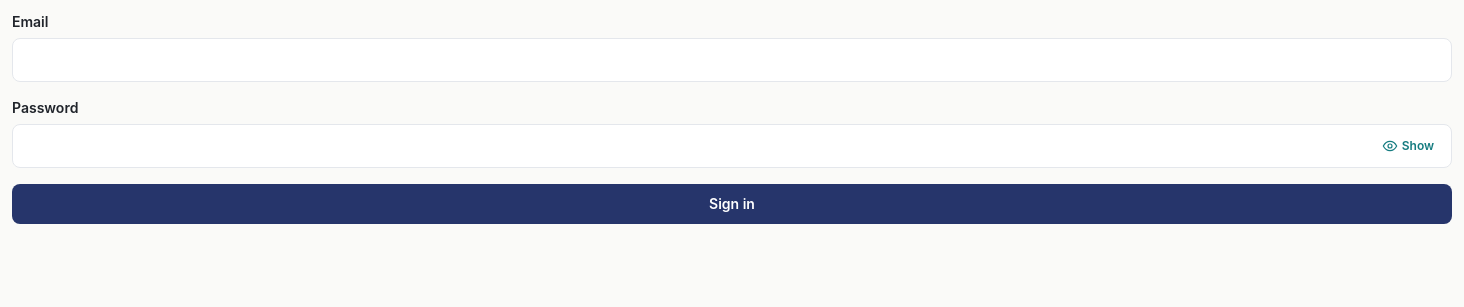
exclusive customer and workforce UI sign-in flows › does not navigate when the post-login session cannot be verified
Type "person@example.test" into the field labelled "Email" at {"x": 732, "y": 60}, box x1=12 y1=38 x2=1452 y2=82
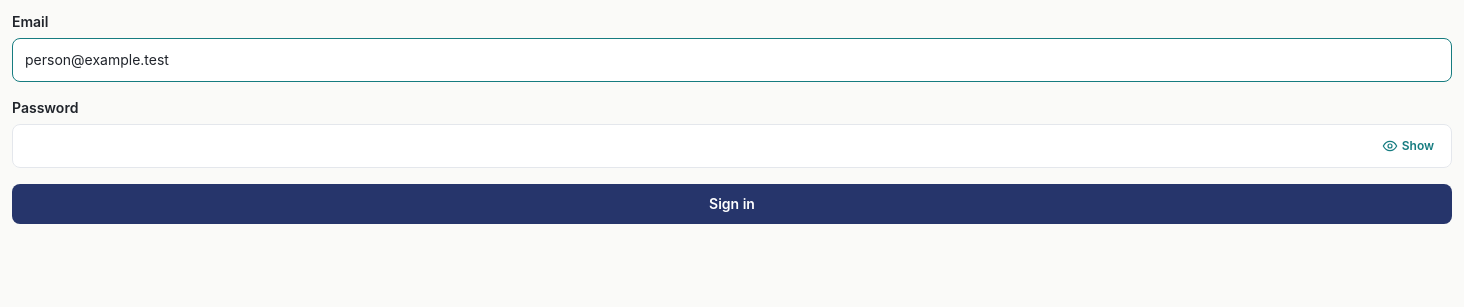
Type "LongEnoughPassword!9" into the password field labelled "Password" at {"x": 732, "y": 146}, box x1=12 y1=124 x2=1452 y2=168
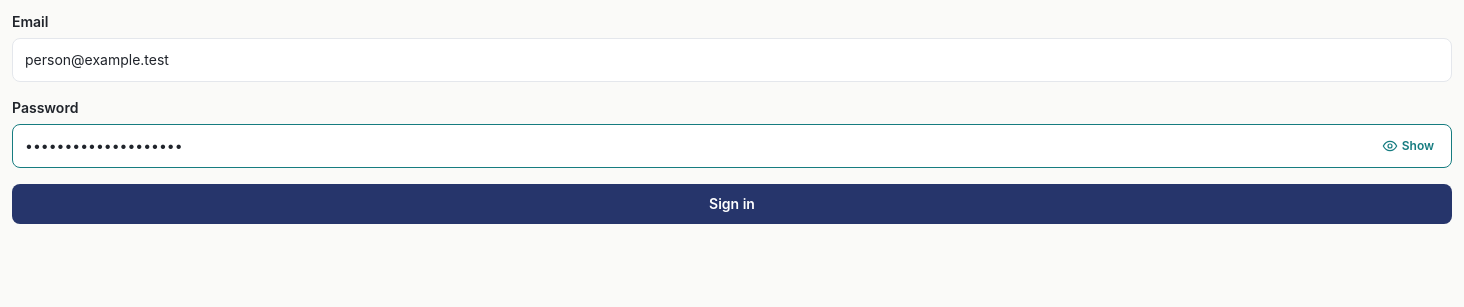
Click the button "Sign in" at {"x": 732, "y": 204}, box x1=12 y1=184 x2=1452 y2=224
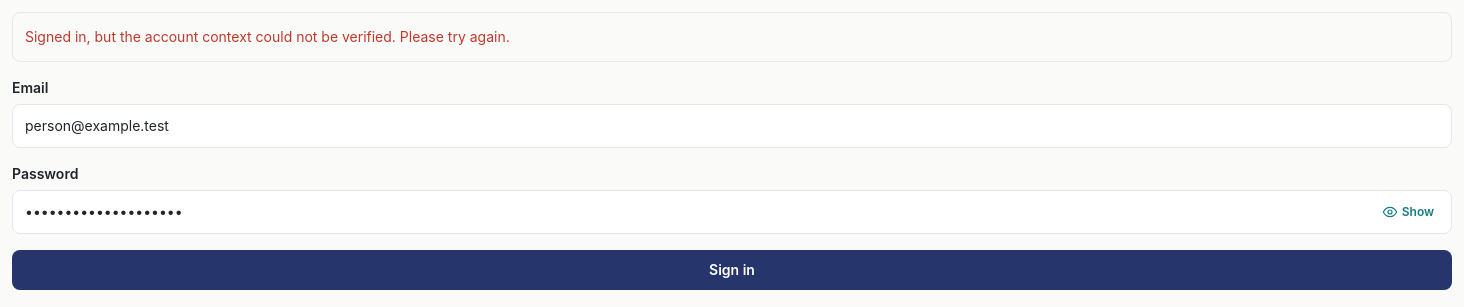
Expected: the text "Signed in, but the account context could not be verified. Please try again." is shown, x1=12 y1=12 x2=1452 y2=62
